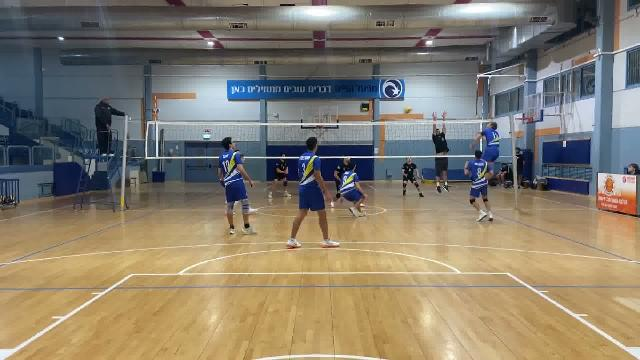ball: (403, 107, 413, 115)
